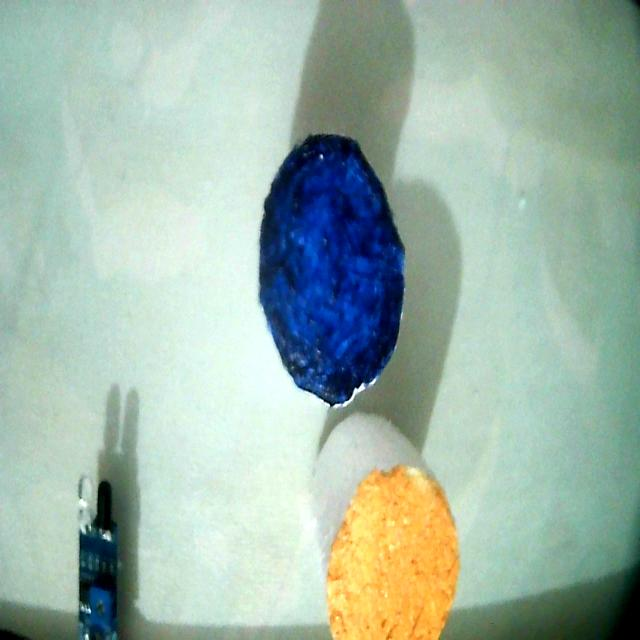blue: (259, 135, 404, 405)
yellow: (326, 466, 459, 639)
